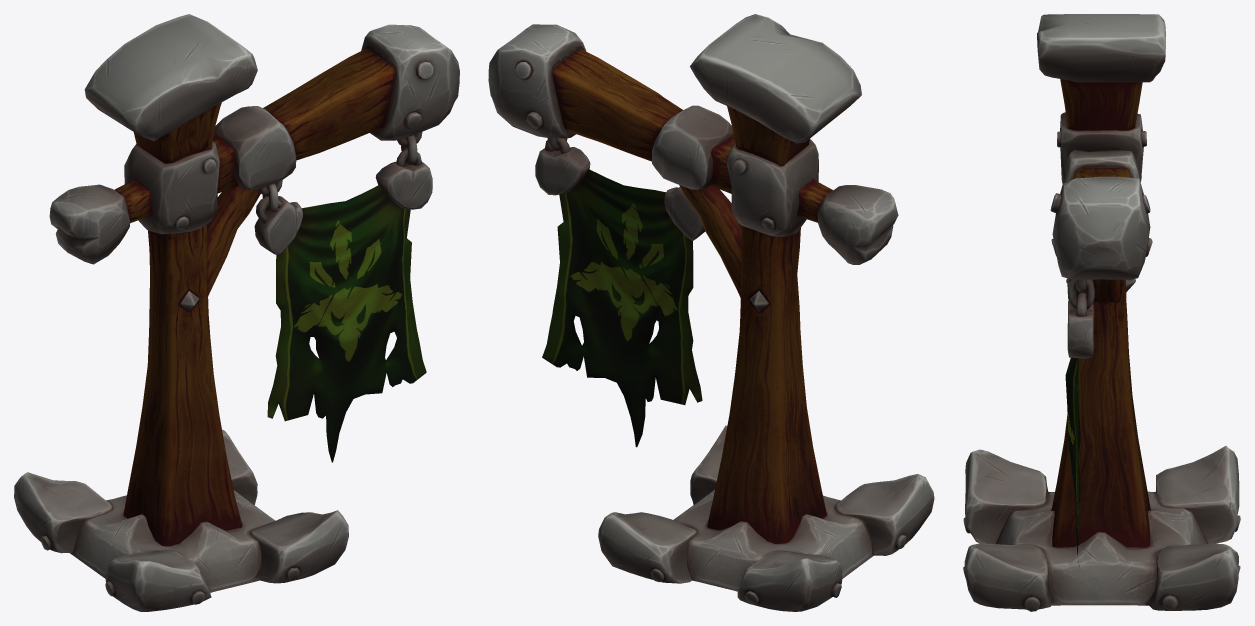
Rendered from flag_LP.fbx.
3 renders of one model, left to right at view 1: azimuth 30°, elevation 25°; view 2: azimuth 150°, elevation 25°; view 3: azimuth 270°, elevation 25°, orthographic. The views are drawn at different scales.
Visible parts, largest first — view 1: flag1_LP, flag4_LP, flag5_LP, flag3_LP, flag2_LP; view 2: flag1_LP, flag4_LP, flag5_LP, flag3_LP; view 3: flag1_LP, flag4_LP, flag3_LP, flag5_LP, flag2_LP.
Boxes of the visible parts, left/top/right/bottom form: flag1_LP: left=14, top=14, right=459, bottom=611; flag4_LP: left=114, top=48, right=395, bottom=546; flag5_LP: left=267, top=184, right=426, bottom=462; flag3_LP: left=40, top=61, right=433, bottom=604; flag2_LP: left=180, top=135, right=417, bottom=311; flag1_LP: left=488, top=14, right=934, bottom=611; flag4_LP: left=552, top=48, right=833, bottom=543; flag5_LP: left=542, top=169, right=702, bottom=447; flag3_LP: left=515, top=62, right=906, bottom=604; flag1_LP: left=964, top=14, right=1239, bottom=610; flag4_LP: left=1051, top=79, right=1150, bottom=547; flag3_LP: left=963, top=131, right=1240, bottom=611; flag5_LP: left=1065, top=289, right=1080, bottom=566; flag2_LP: left=1066, top=279, right=1135, bottom=309.
Size of the model in its own units: 293 by 362 by 168.
